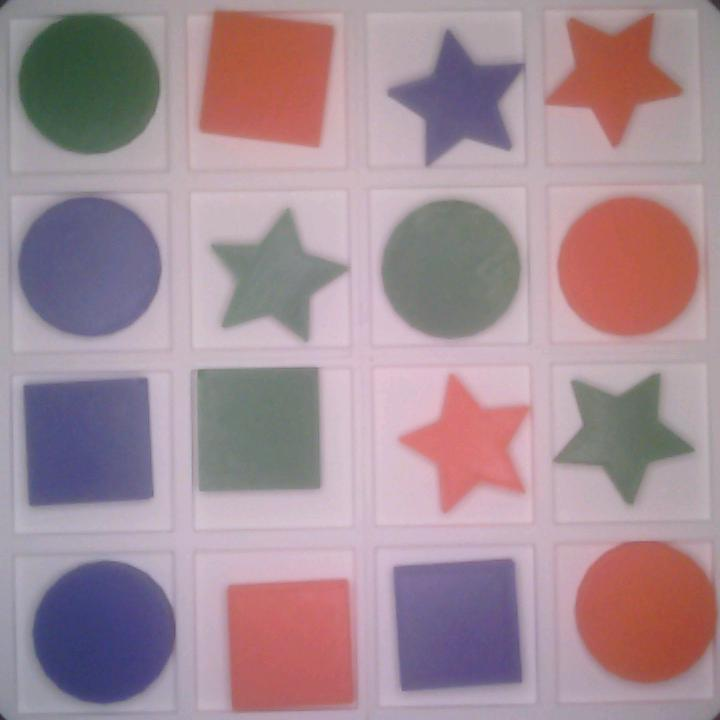Blue circle: (16, 195, 167, 345), (29, 558, 177, 705)
Blue square: (19, 377, 159, 512), (390, 559, 522, 692)
Blue star: (382, 29, 526, 169)
Green circle: (16, 15, 162, 154), (381, 202, 521, 340)
Green square: (195, 366, 322, 496)
Green star: (215, 208, 347, 343), (559, 373, 686, 508)
Orange circle: (574, 540, 719, 689), (559, 196, 694, 338)
Orange square: (195, 10, 339, 151), (225, 574, 361, 719)
Orange star: (551, 9, 689, 153), (401, 372, 534, 516)
